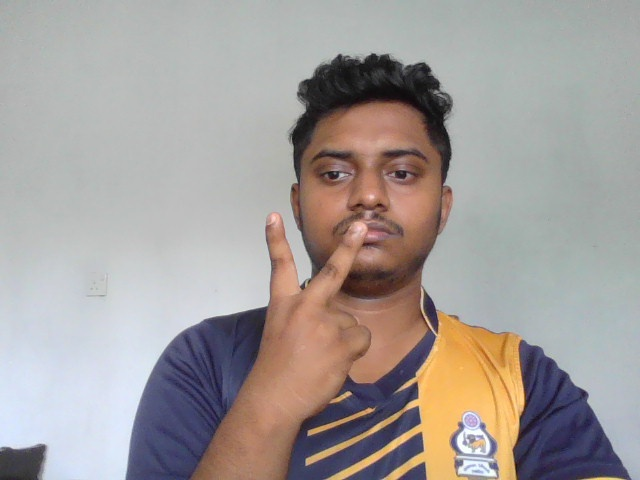See You: (237, 213, 381, 426)
